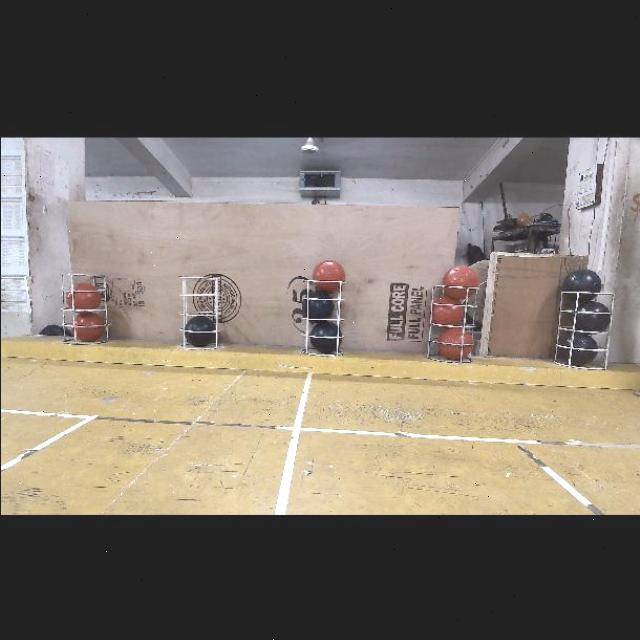P: (558, 332, 596, 366), (567, 268, 599, 300), (187, 317, 217, 345), (302, 292, 332, 320), (312, 323, 341, 351), (576, 305, 606, 331)
R: (442, 264, 477, 299), (436, 328, 470, 357), (311, 260, 345, 289), (66, 283, 100, 311), (70, 315, 104, 339), (431, 299, 462, 325)
S: (549, 284, 617, 370), (422, 282, 480, 362), (60, 268, 114, 346), (300, 278, 346, 358), (179, 274, 219, 352)
